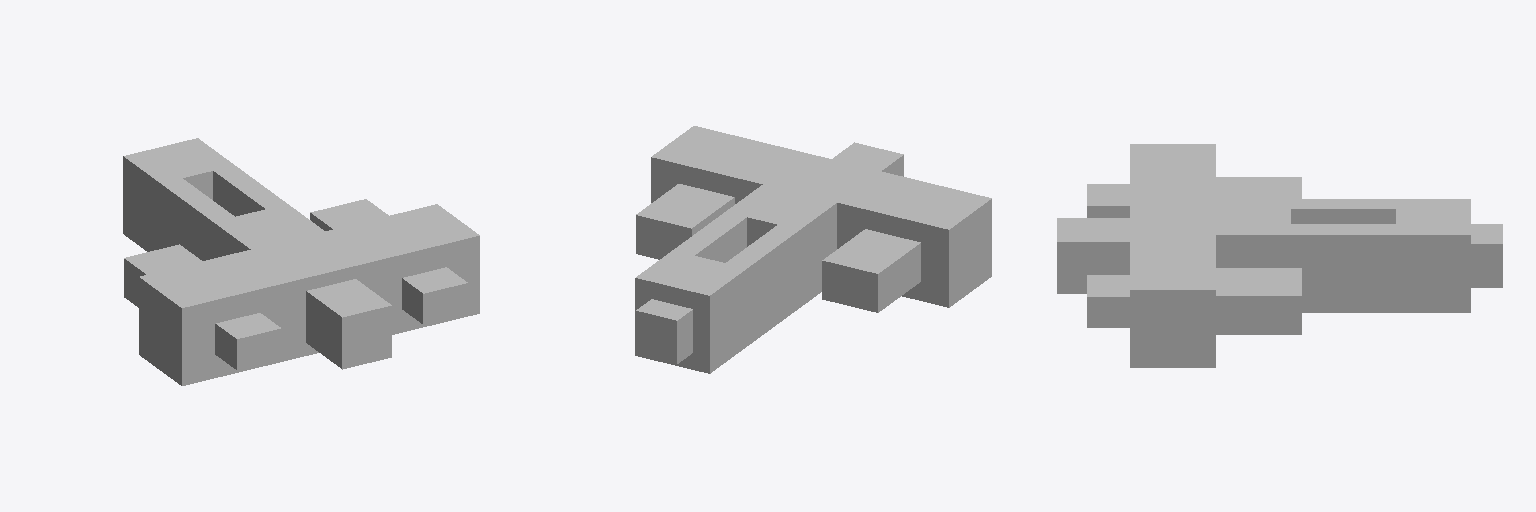
Rendered from Ship.obj.
The picture shows the model from 3 angles: view 1: azimuth 30°, elevation 25°; view 2: azimuth 150°, elevation 25°; view 3: azimuth 270°, elevation 25°; orthographic projection.
Visible parts, largest first — view 1: Cube; view 2: Cube; view 3: Cube.
Boxes of the visible parts, x1,y1,x2,y2 form: Cube: [123, 138, 479, 385]; Cube: [635, 126, 991, 373]; Cube: [1057, 144, 1502, 367].
Bounding box in the file's own units: 200 × 50 × 259.